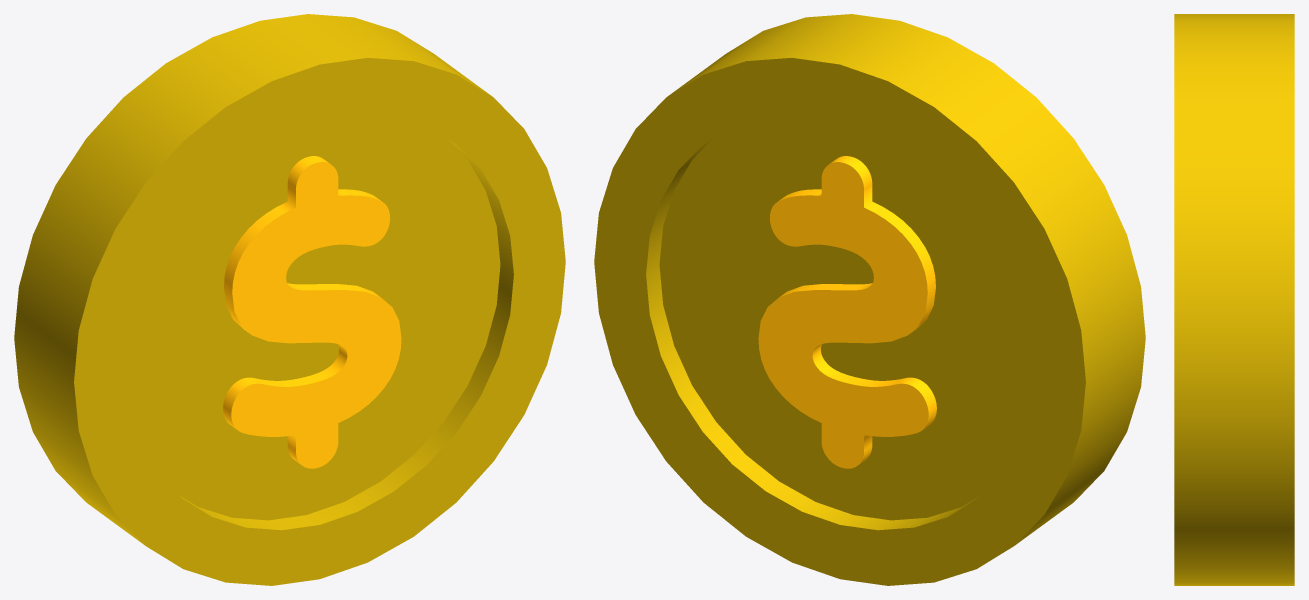
File: Coin_usd.fbx
3 views of the same model, side by side, from view 1: azimuth 30°, elevation 25°; view 2: azimuth 150°, elevation 25°; view 3: azimuth 270°, elevation 25° (orthographic).
Visible parts, largest first — view 1: Coin_usd; view 2: Coin_usd; view 3: Coin_usd.
Part boxes in pixels (x1=…): Coin_usd: x1=14, y1=14, x2=565, y2=585; Coin_usd: x1=594, y1=14, x2=1145, y2=585; Coin_usd: x1=1174, y1=14, x2=1294, y2=585.
Size of the model in its own units: 2.03 by 0.4286 by 2.03.
